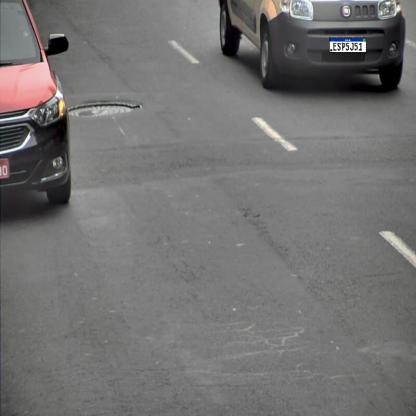PlacaM: (329, 37, 367, 53)
